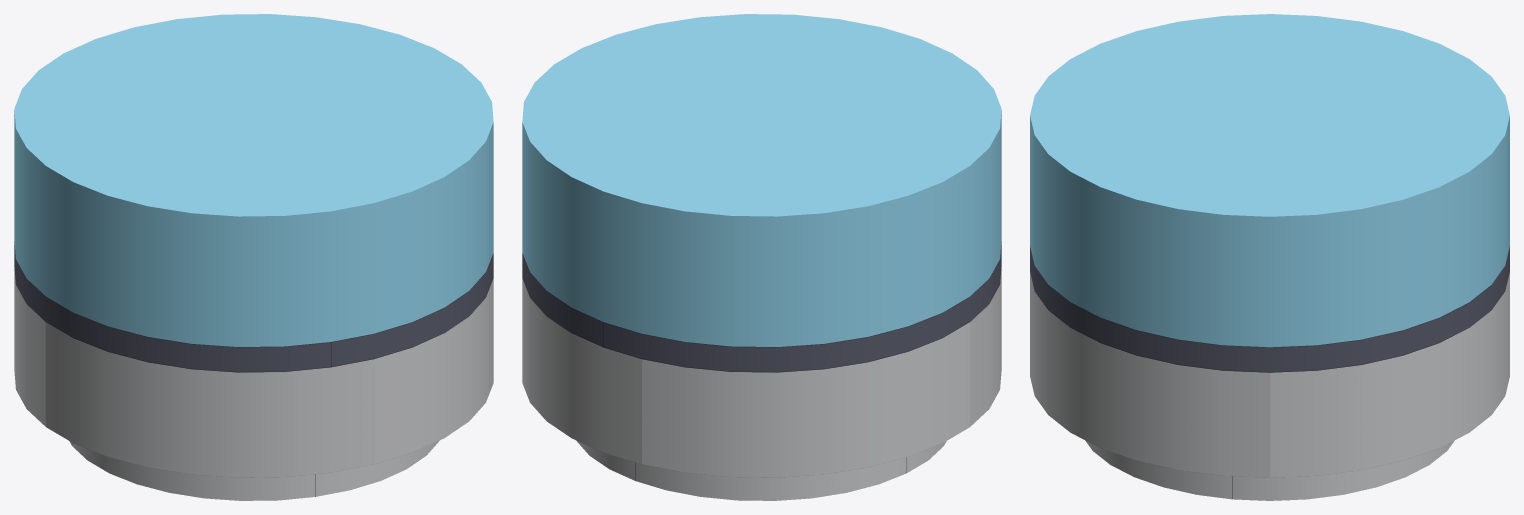
The model's file is Stand_02.FBX.
The picture shows the model from 3 angles, left to right: view 1: azimuth 30°, elevation 25°; view 2: azimuth 150°, elevation 25°; view 3: azimuth 270°, elevation 25°; orthographic projection.
Visible parts, largest first — view 1: Glass, Stand_02; view 2: Glass, Stand_02; view 3: Glass, Stand_02.
Boxes of the visible parts, box(x1,y1,x2,y2) form: Glass: box(14, 14, 493, 346); Stand_02: box(14, 241, 493, 500); Glass: box(522, 14, 1001, 346); Stand_02: box(522, 241, 1001, 500); Glass: box(1030, 14, 1509, 347); Stand_02: box(1030, 246, 1509, 500).
Bounding box in the file's own units: 2.5 × 1.75 × 2.5.
Materials: 2 (1 with a texture image).
